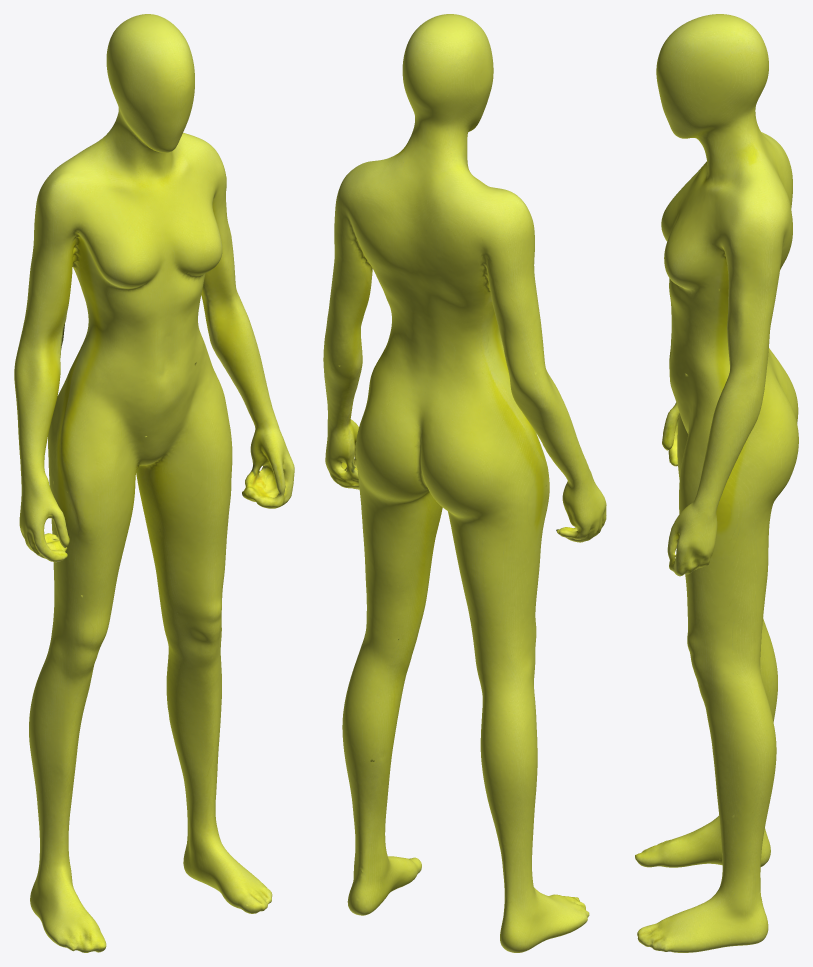
Rendered from FEMALE_MANNEQUIN.glb.
3 renders of one model, left to right at view 1: azimuth 30°, elevation 25°; view 2: azimuth 150°, elevation 25°; view 3: azimuth 270°, elevation 25°, orthographic.
Size of the model in its own units: 0.6311 by 2 by 0.3334.
Materials: 1 (1 with a texture image).
